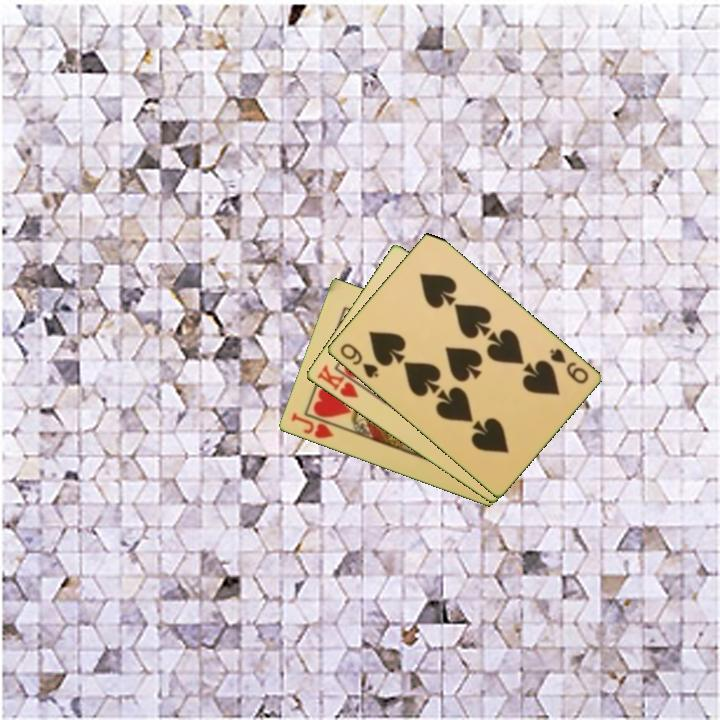9s: (546, 345, 591, 387), (336, 340, 381, 381)
Jh: (287, 409, 336, 442)
Kh: (313, 361, 369, 401)
